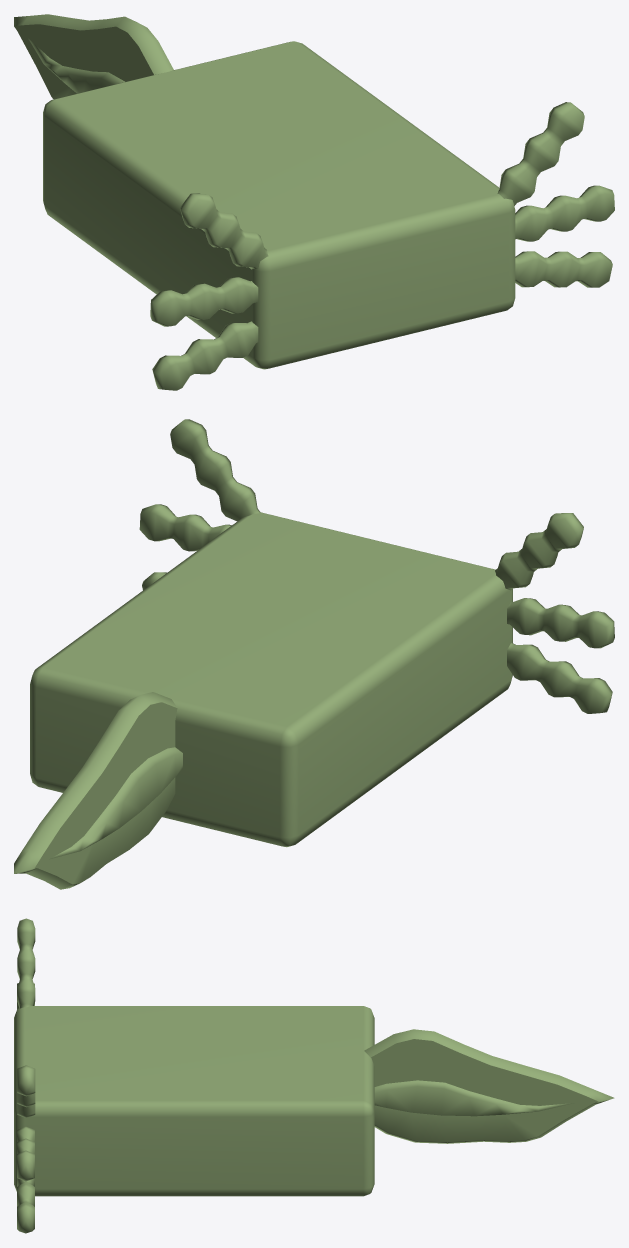
Rendered from PROPS_GOODS_BROWNIE_MODEL.fbx.
The picture shows the model from 3 angles, top to bottom: view 1: azimuth 30°, elevation 25°; view 2: azimuth 150°, elevation 25°; view 3: azimuth 270°, elevation 25°; orthographic projection. The views are drawn at different scales.
Visible parts, largest first — view 1: PROPS_GOODS_BROWNIE_MODEL; view 2: PROPS_GOODS_BROWNIE_MODEL; view 3: PROPS_GOODS_BROWNIE_MODEL.
Boxes of the visible parts, x1=… form: PROPS_GOODS_BROWNIE_MODEL: x1=14, y1=14, x2=614, y2=390; PROPS_GOODS_BROWNIE_MODEL: x1=14, y1=419, x2=614, y2=889; PROPS_GOODS_BROWNIE_MODEL: x1=14, y1=918, x2=614, y2=1233.
Bounding box in the file's own units: 11.52 × 4.57 × 15.97.
